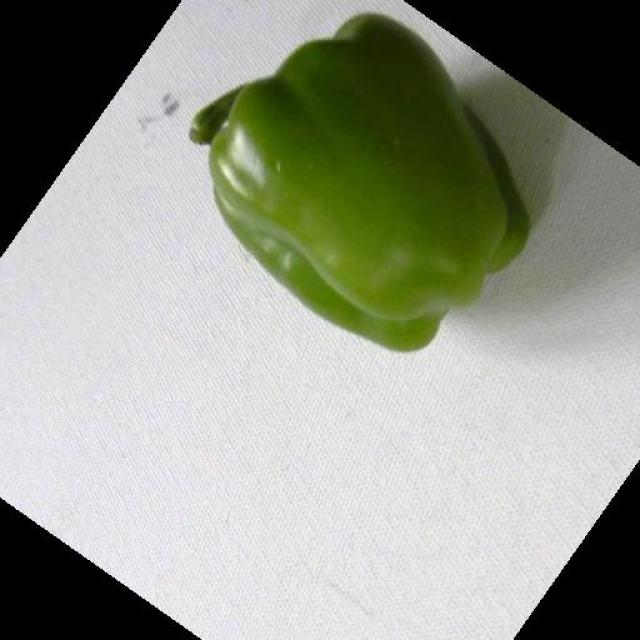Fresh_Capsicum: (205, 19, 517, 322)
